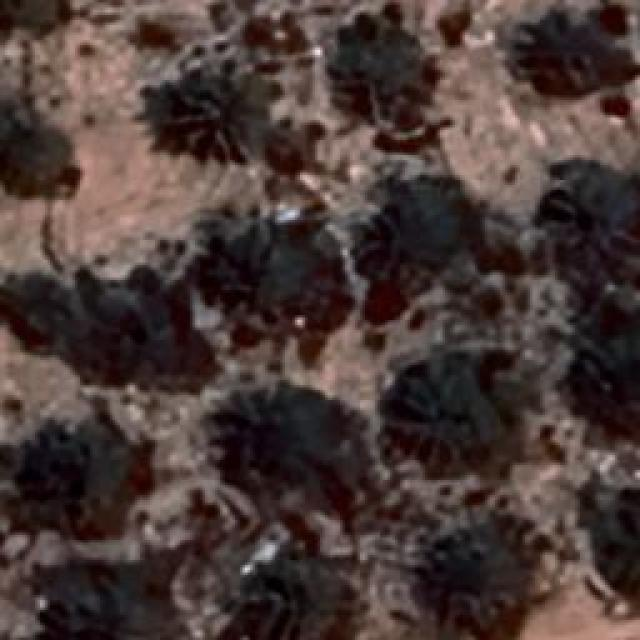PalmTree: (30, 19, 100, 610), (140, 38, 275, 160), (394, 360, 502, 468), (424, 509, 518, 629), (209, 224, 309, 326), (10, 428, 105, 530), (372, 182, 466, 276), (218, 390, 316, 472), (241, 564, 341, 638), (74, 288, 156, 377), (0, 108, 65, 206), (0, 262, 68, 346), (577, 331, 640, 421), (592, 485, 640, 603), (338, 14, 418, 84), (529, 24, 609, 94), (541, 158, 621, 228)
